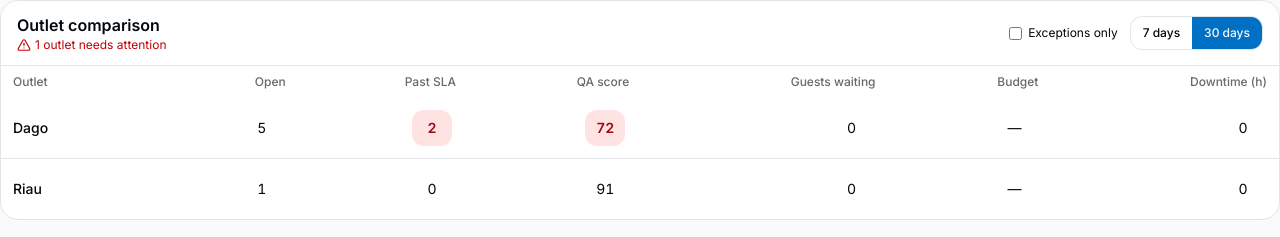
it: OutletComparison › can show only the outlets with exceptions, and switch the period
The image size is (1280, 237).
Later steps or results of the test are not shown.
Click the checkbox labelled "Exceptions only": click(1016, 33) [1009,26,1022,40]
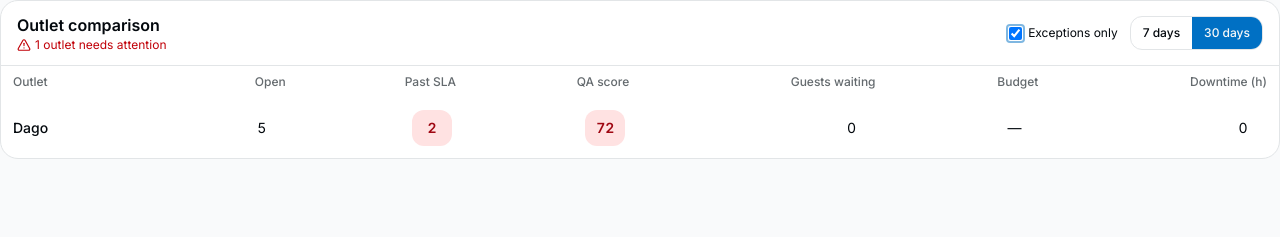
Result: the column heading "Riau" is gone
